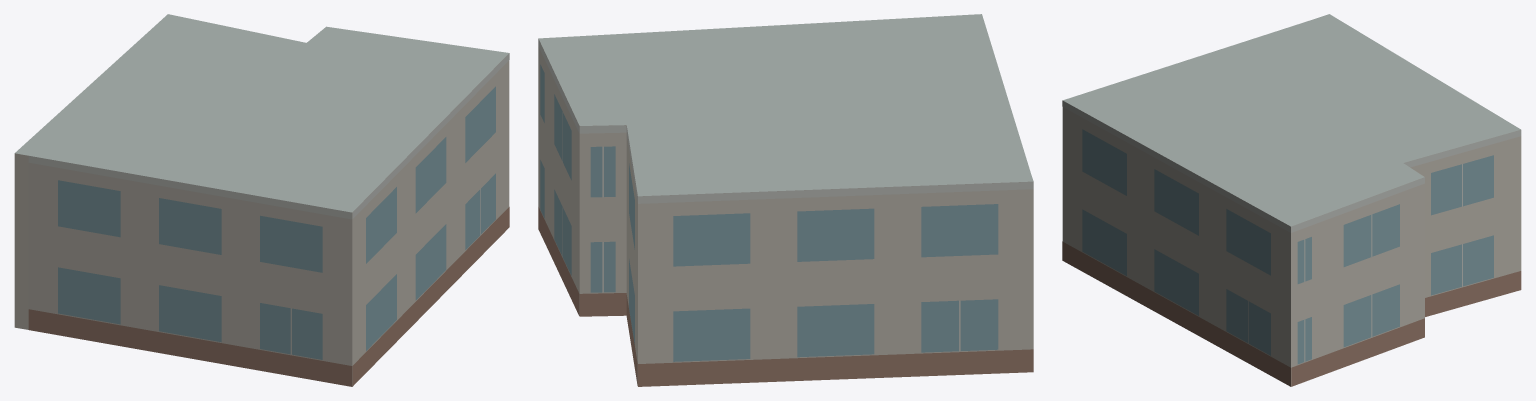
File: survey-upis-32585068.glb
The picture shows the model from 3 angles, left to right: view 1: azimuth 30°, elevation 25°; view 2: azimuth 150°, elevation 25°; view 3: azimuth 270°, elevation 25°; orthographic projection. The views are drawn at different scales.
Parts seen in each view (by area): view 1: survey-upis-32585068.tmp; view 2: survey-upis-32585068.tmp; view 3: survey-upis-32585068.tmp.
Boxes of the visible parts, x1,y1,x2,y2 form: survey-upis-32585068.tmp: (14, 14, 509, 386); survey-upis-32585068.tmp: (538, 14, 1033, 386); survey-upis-32585068.tmp: (1062, 14, 1521, 386).
Size of the model in its own units: 17.37 by 6.1 by 15.84.
